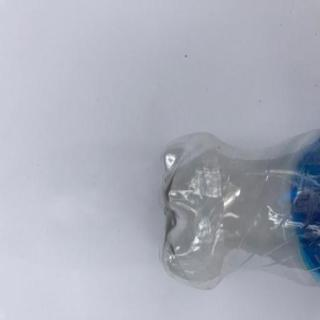Plastic-bottle: (159, 127, 320, 298)
